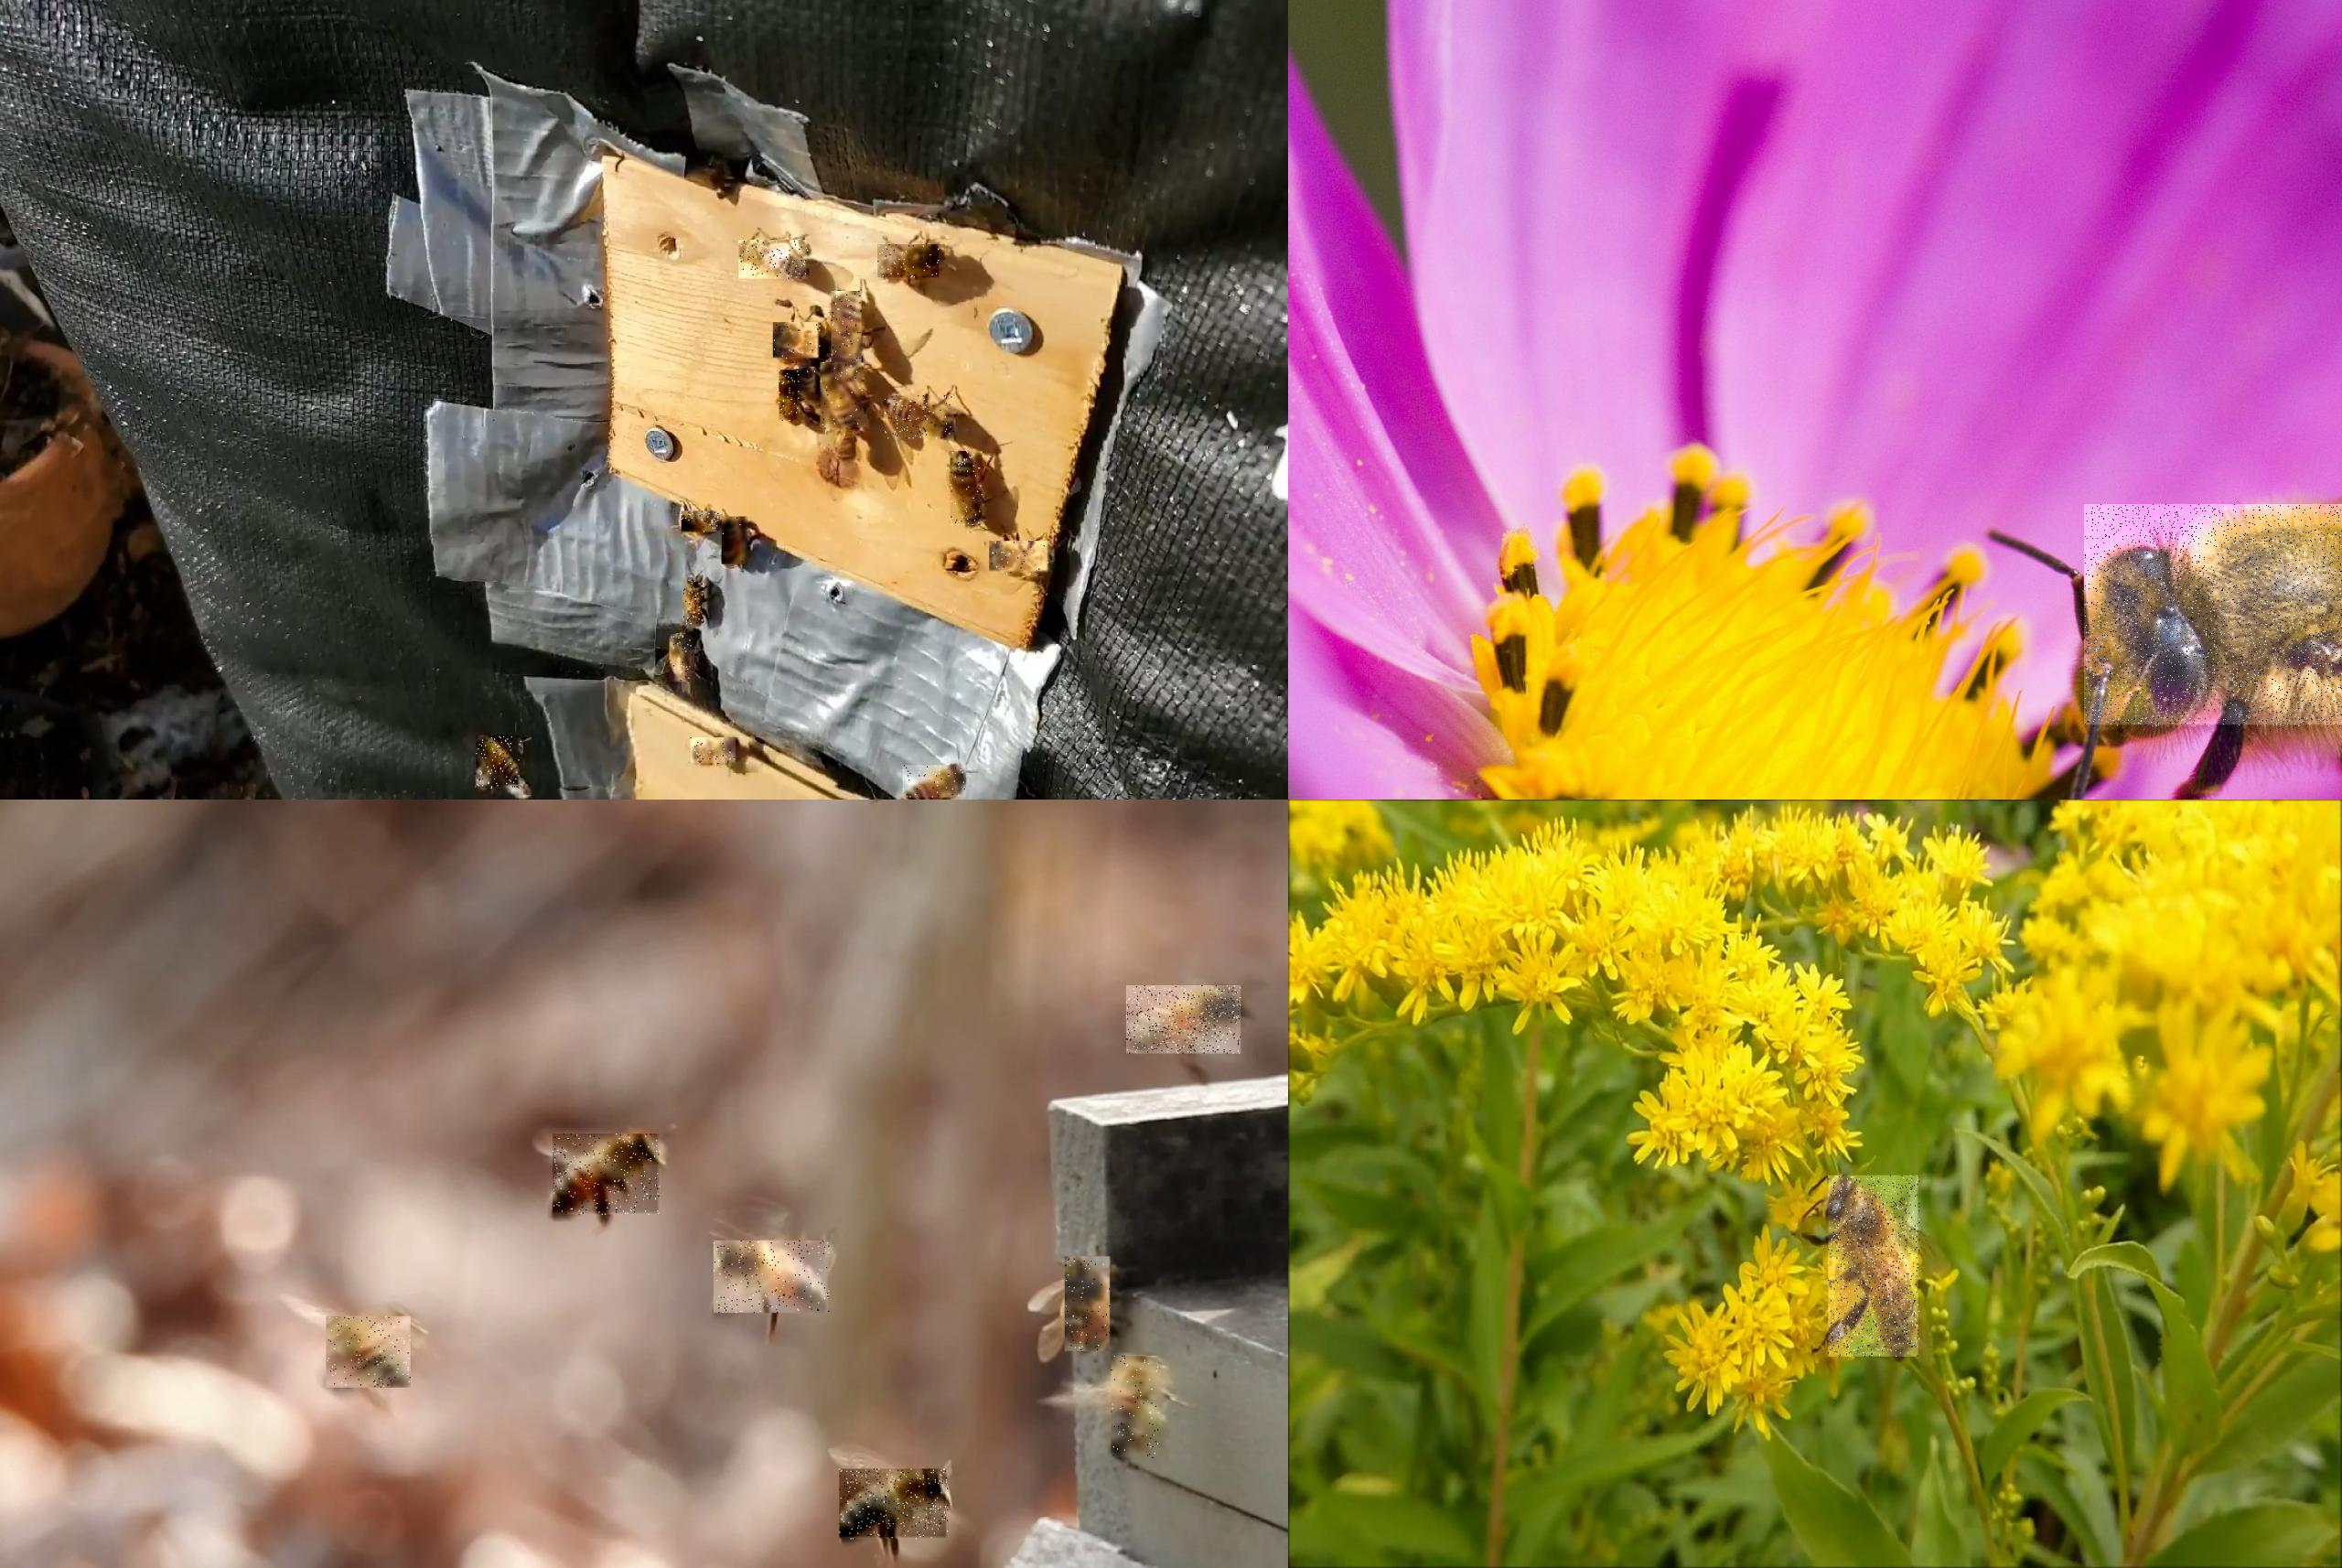bee: (2085, 504, 2340, 728), (1829, 1176, 1922, 1358), (553, 1134, 662, 1216), (714, 1241, 831, 1314), (1125, 985, 1241, 1055), (840, 1470, 950, 1542), (326, 1316, 411, 1389), (1111, 1356, 1160, 1460), (884, 396, 956, 441), (821, 362, 865, 429), (739, 240, 810, 280), (476, 737, 523, 791), (950, 451, 984, 527), (831, 291, 863, 364), (903, 765, 968, 798), (877, 245, 940, 278), (991, 542, 1052, 576), (774, 324, 823, 362), (723, 516, 751, 565), (691, 738, 737, 767), (670, 633, 695, 682), (781, 371, 802, 423), (683, 579, 705, 625), (681, 511, 719, 534), (800, 367, 821, 397)
pollenbee: (1064, 1256, 1111, 1353)
